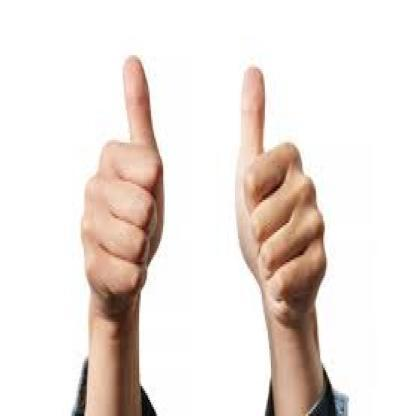thumb_up: (228, 61, 328, 318), (78, 52, 173, 300)
